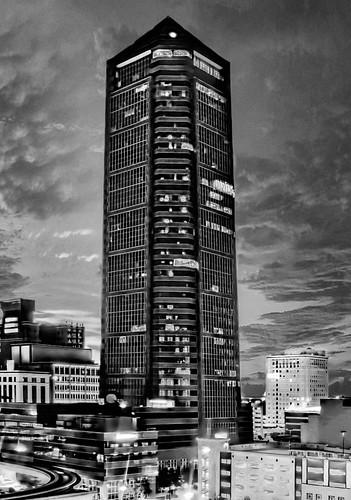building: (95, 13, 244, 444)
